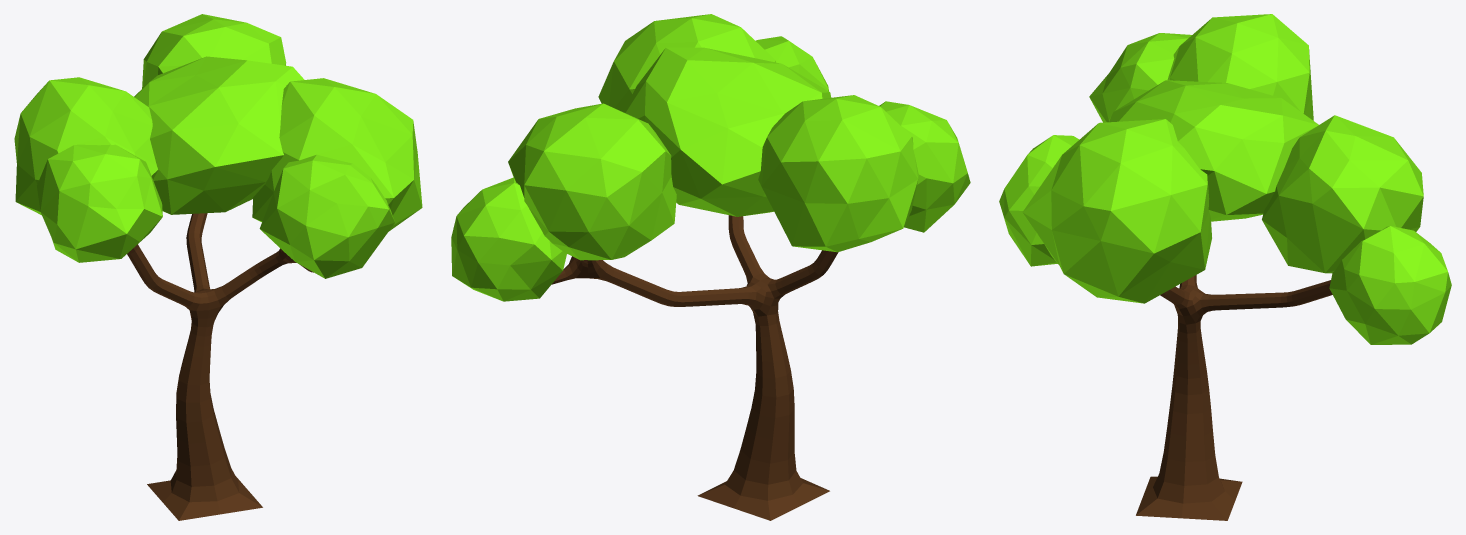
Rendered from tree.fbx.
3 renders of one model, left to right at view 1: azimuth 30°, elevation 25°; view 2: azimuth 150°, elevation 25°; view 3: azimuth 270°, elevation 25°, orthographic. The views are drawn at different scales.
Visible parts, largest first — view 1: tree; view 2: tree; view 3: tree.
Part boxes in pixels (x1=…): tree: x1=14, y1=14, x2=422, y2=520; tree: x1=451, y1=14, x2=970, y2=520; tree: x1=999, y1=14, x2=1451, y2=520.
Size of the model in its own units: 4.92 by 5.39 by 5.14.
